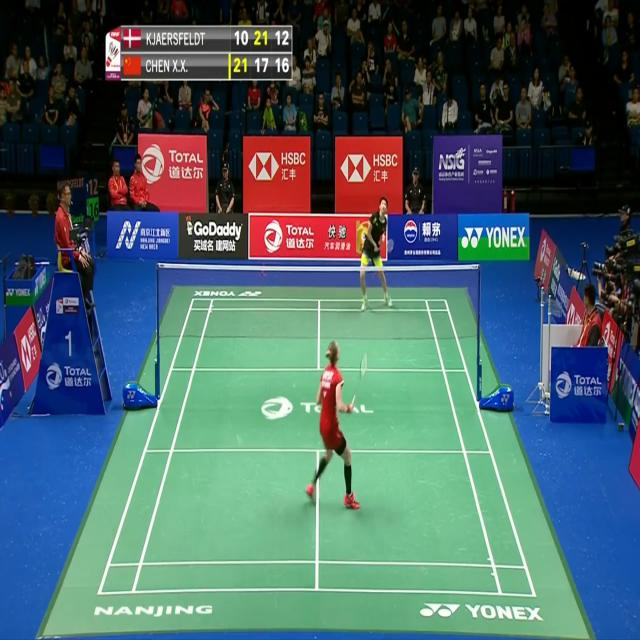Player1: (303, 334, 363, 516)
Player2: (356, 193, 396, 318)
